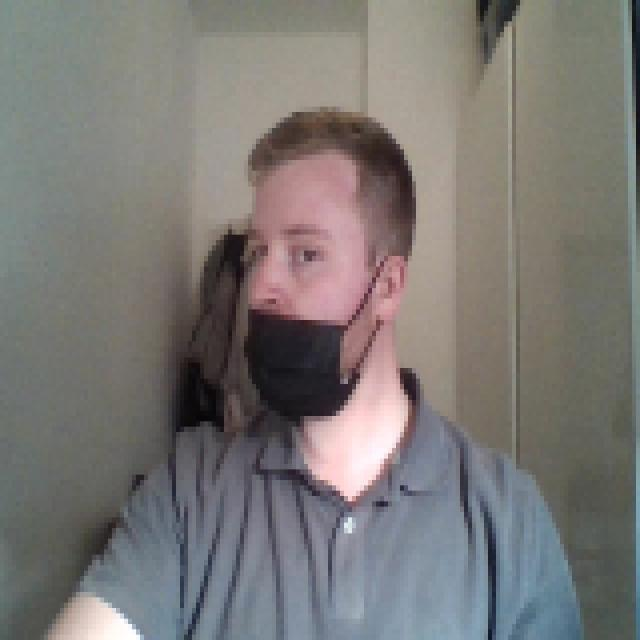hairnet: (224, 229, 408, 422)
